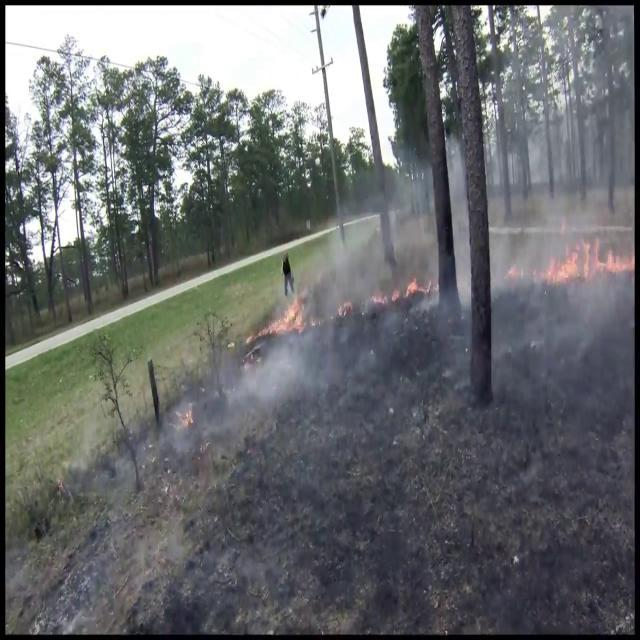Fire: (542, 227, 634, 290), (267, 289, 307, 340)
Smoke: (446, 0, 640, 323), (215, 200, 443, 433)
